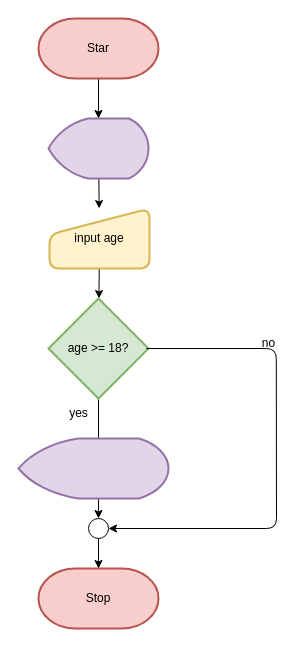
The diagram is 305 pixels wide and 646 high, and some of its shapes have lost their labels. The box of each missing label's shape, as (x1, y1, x2, y2) in pixels:
"input age": (47, 117, 149, 179)
"You are an adult,": (17, 437, 169, 499)
